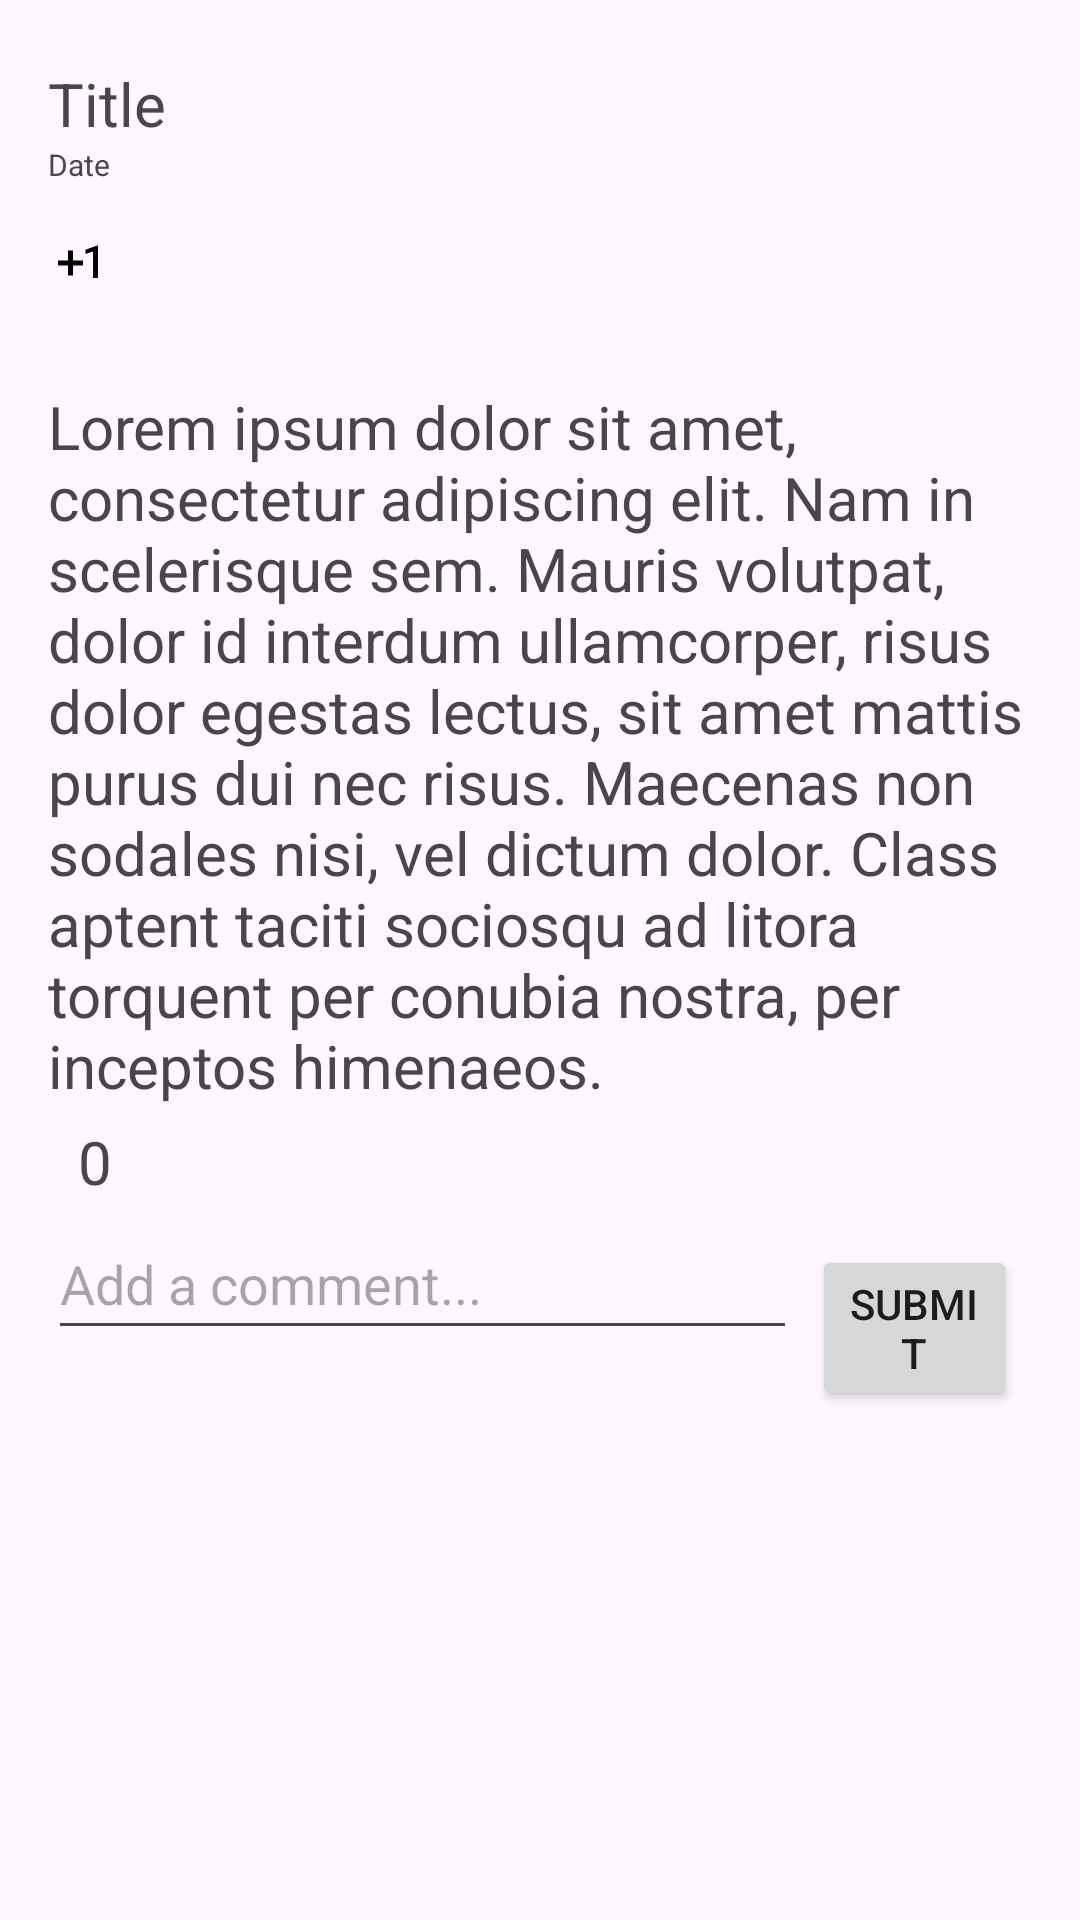

Where icons sit on this 1080px x 1920px app screen, as (x1, y1, x2, y2):
exposure plus: (58, 245, 98, 278)
